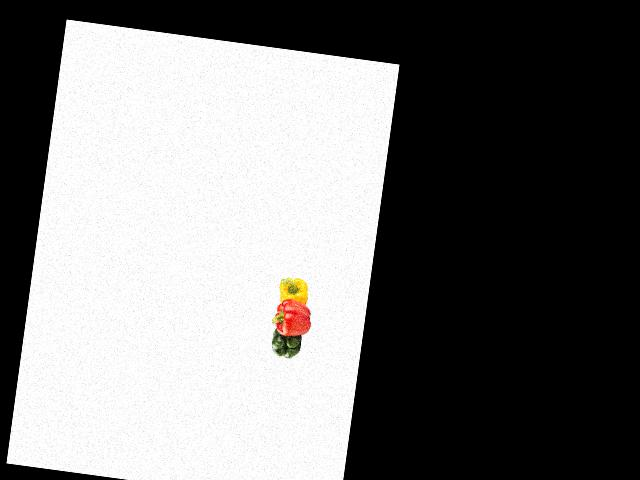bell_pepper: (274, 273, 316, 308)
